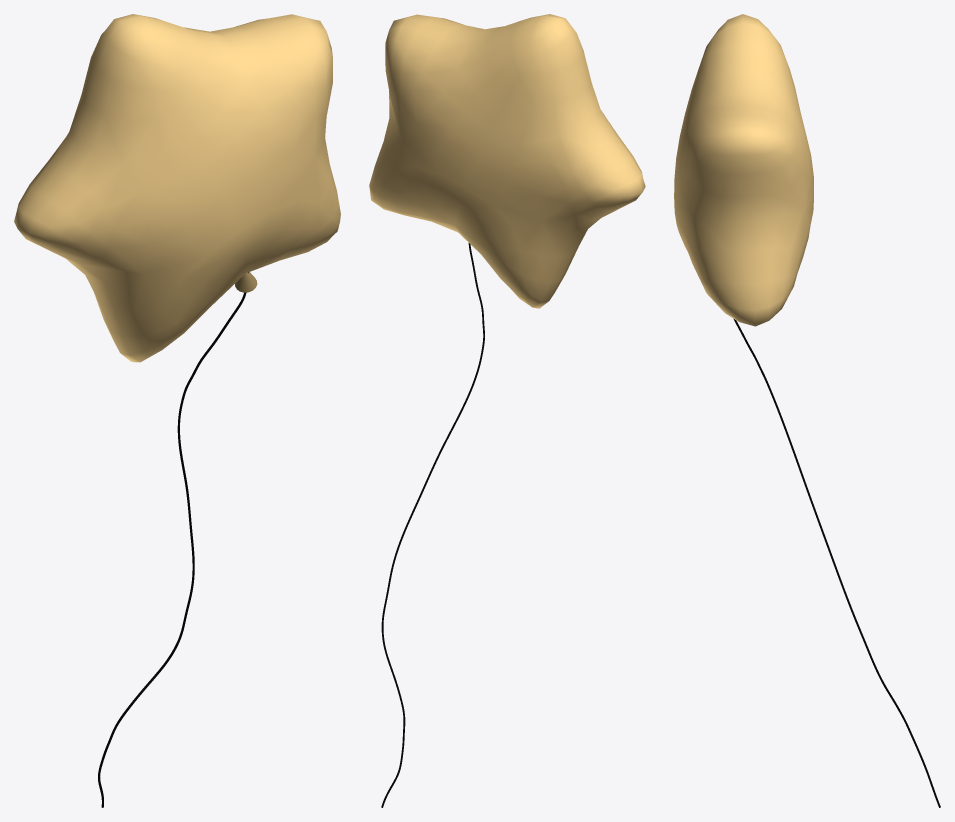
Rendered from globoestrella2.fbx.
The picture shows the model from 3 angles, left to right: view 1: azimuth 30°, elevation 25°; view 2: azimuth 150°, elevation 25°; view 3: azimuth 270°, elevation 25°; orthographic projection. The views are drawn at different scales.
Visible parts, largest first — view 1: pPlane73, defaultBrush1Main6; view 2: pPlane73, defaultBrush1Main6; view 3: pPlane73, defaultBrush1Main6.
Part boxes in pixels (x1,y1,x2,y2): pPlane73: (14, 14, 340, 362); defaultBrush1Main6: (98, 272, 248, 807); pPlane73: (369, 14, 645, 308); defaultBrush1Main6: (381, 243, 484, 807); pPlane73: (674, 14, 813, 326); defaultBrush1Main6: (733, 319, 940, 807).
Size of the model in its own units: 2.85 by 7.56 by 2.43.
